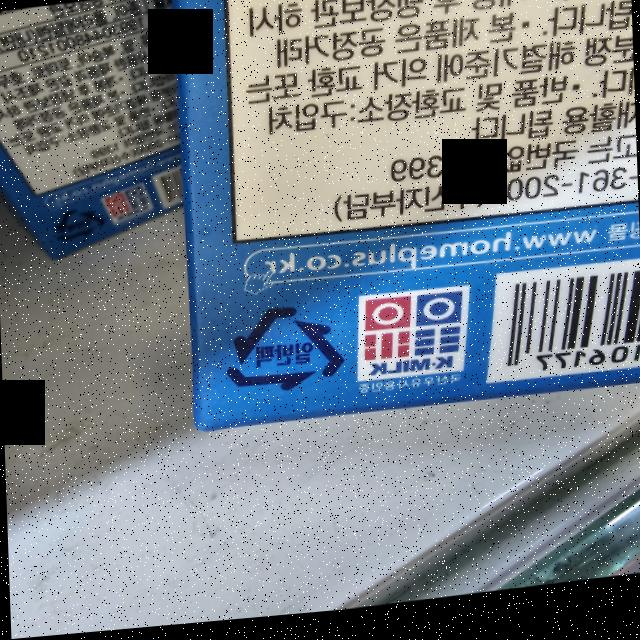NormalPack: (222, 302, 348, 402)
